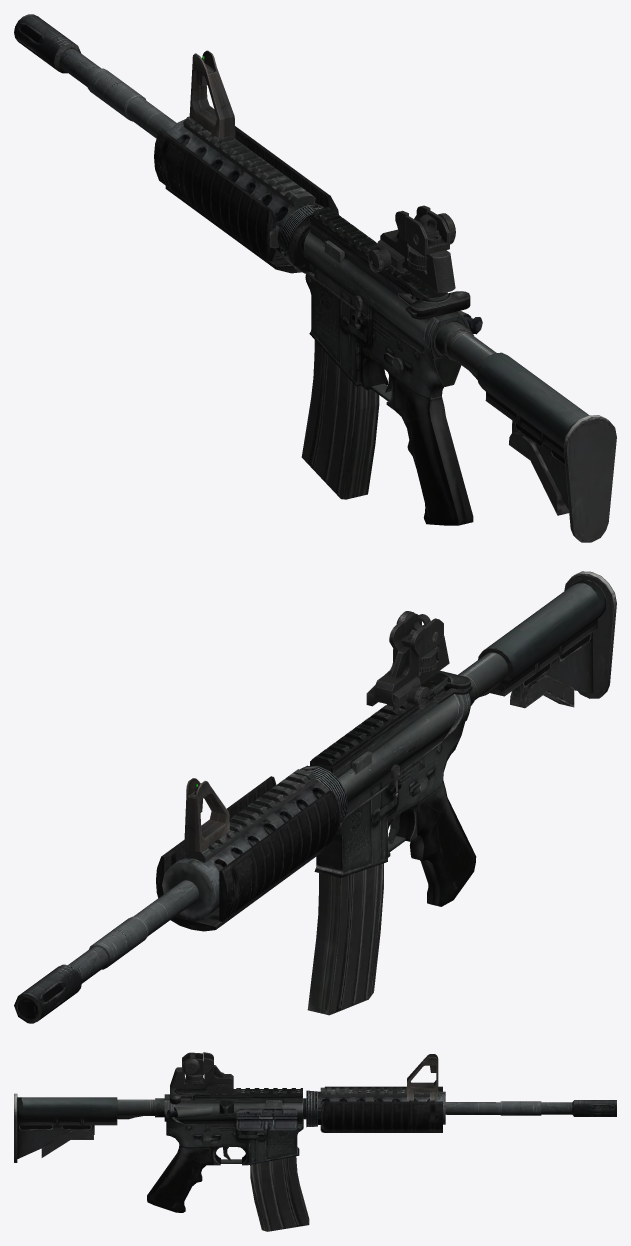
3 renders of one model, top to bottom at view 1: azimuth 30°, elevation 25°; view 2: azimuth 150°, elevation 25°; view 3: azimuth 270°, elevation 25°, orthographic. The views are drawn at different scales.
Visible parts, largest first — view 1: body__tex_m4a1_body, body__tex_m4a1_barrel, body__tex_m4a1_stock, mag__tex_m4a1_magazine, body__tex_m4a1_rearsight, body__tex_m4a1_sight; view 2: body__tex_m4a1_body, body__tex_m4a1_barrel, body__tex_m4a1_stock, mag__tex_m4a1_magazine, body__tex_m4a1_rearsight, body__tex_m4a1_sight; view 3: body__tex_m4a1_body, body__tex_m4a1_barrel, body__tex_m4a1_stock, mag__tex_m4a1_magazine, body__tex_m4a1_rearsight, body__tex_m4a1_sight.
Part boxes in pixels (x1,y1,x2,y2): body__tex_m4a1_body: (304,207,482,525); body__tex_m4a1_barrel: (14,14,338,273); body__tex_m4a1_stock: (435,322,616,542); mag__tex_m4a1_magazine: (301,340,379,499); body__tex_m4a1_rearsight: (368,205,455,292); body__tex_m4a1_sight: (189,50,235,138); body__tex_m4a1_body: (310,670,476,906); body__tex_m4a1_barrel: (14,765,348,1023); body__tex_m4a1_stock: (458,571,616,708); mag__tex_m4a1_magazine: (307,863,383,1015); body__tex_m4a1_rearsight: (366,611,449,710); body__tex_m4a1_sight: (180,778,229,860); body__tex_m4a1_body: (147,1087,303,1212); body__tex_m4a1_barrel: (303,1086,616,1132); body__tex_m4a1_stock: (14,1093,164,1162); mag__tex_m4a1_magazine: (250,1156,309,1231); body__tex_m4a1_rearsight: (170,1052,233,1093); body__tex_m4a1_sight: (407,1054,438,1100).
Size of the model in its own units: 0.0502 by 0.2129 by 0.6609.
Materials: 6 (6 with a texture image).
